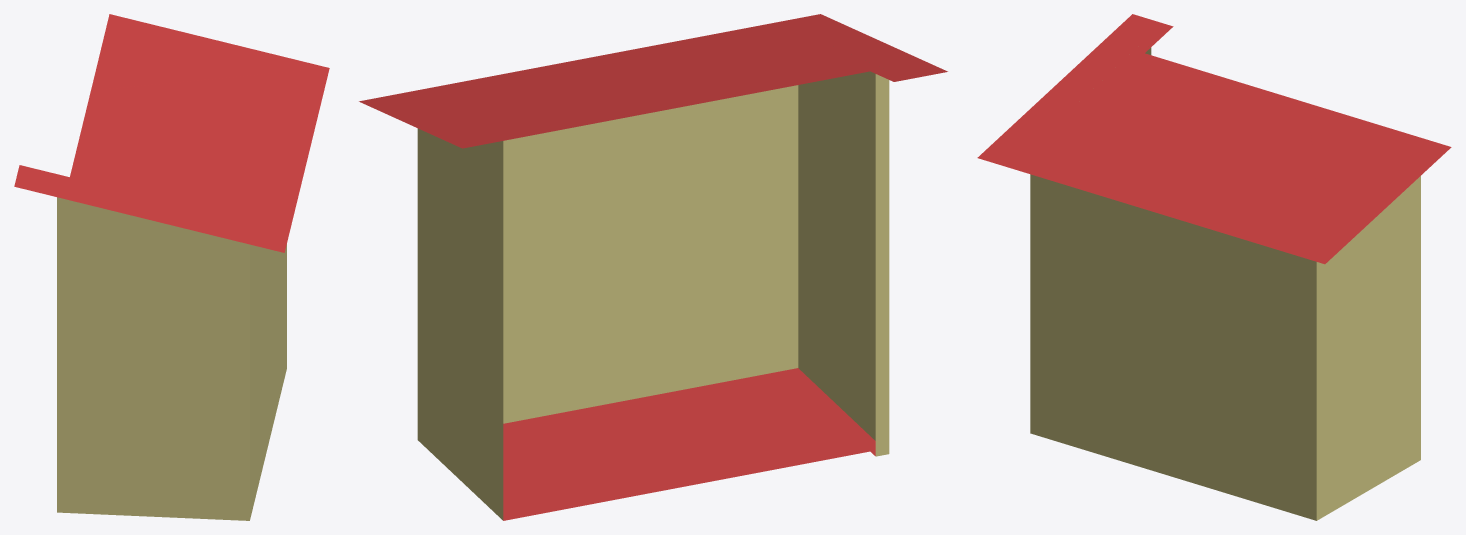
The picture shows the model from 3 angles, left to right: view 1: azimuth 30°, elevation 25°; view 2: azimuth 150°, elevation 25°; view 3: azimuth 270°, elevation 25°; orthographic projection. The views are drawn at different scales.
Bounding box in the file's own units: 9.22 × 9.38 × 7.24.
